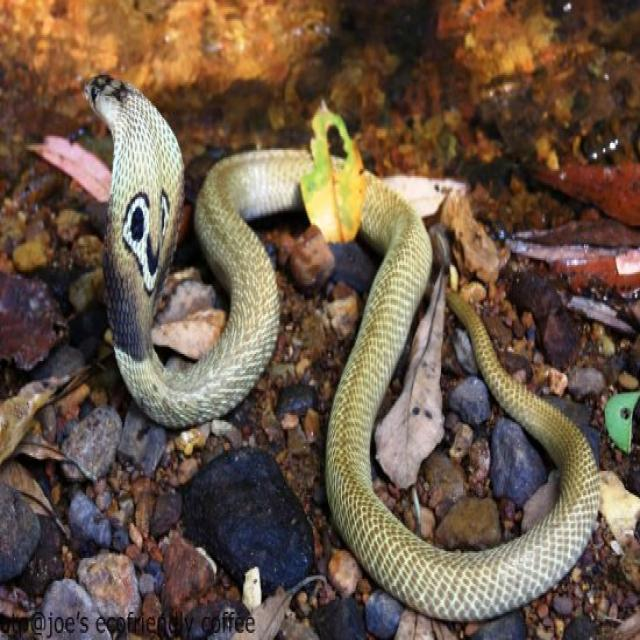Snake: (82, 70, 600, 622)
